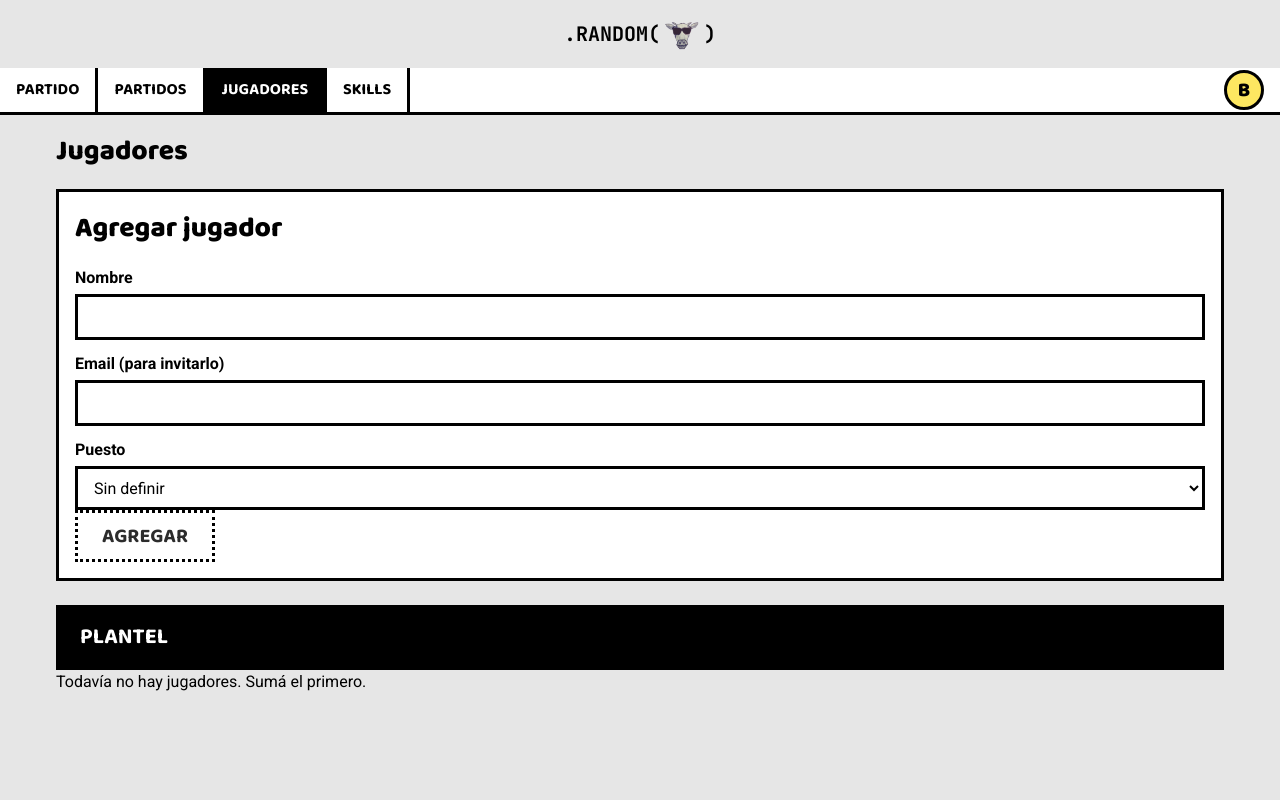
Test case: jugadores › admin agrega un jugador y se recarga la lista
Type "Ana" into the field labelled "Nombre".
click(640, 317); type("Ana")  # box 75,294 -> 1205,340
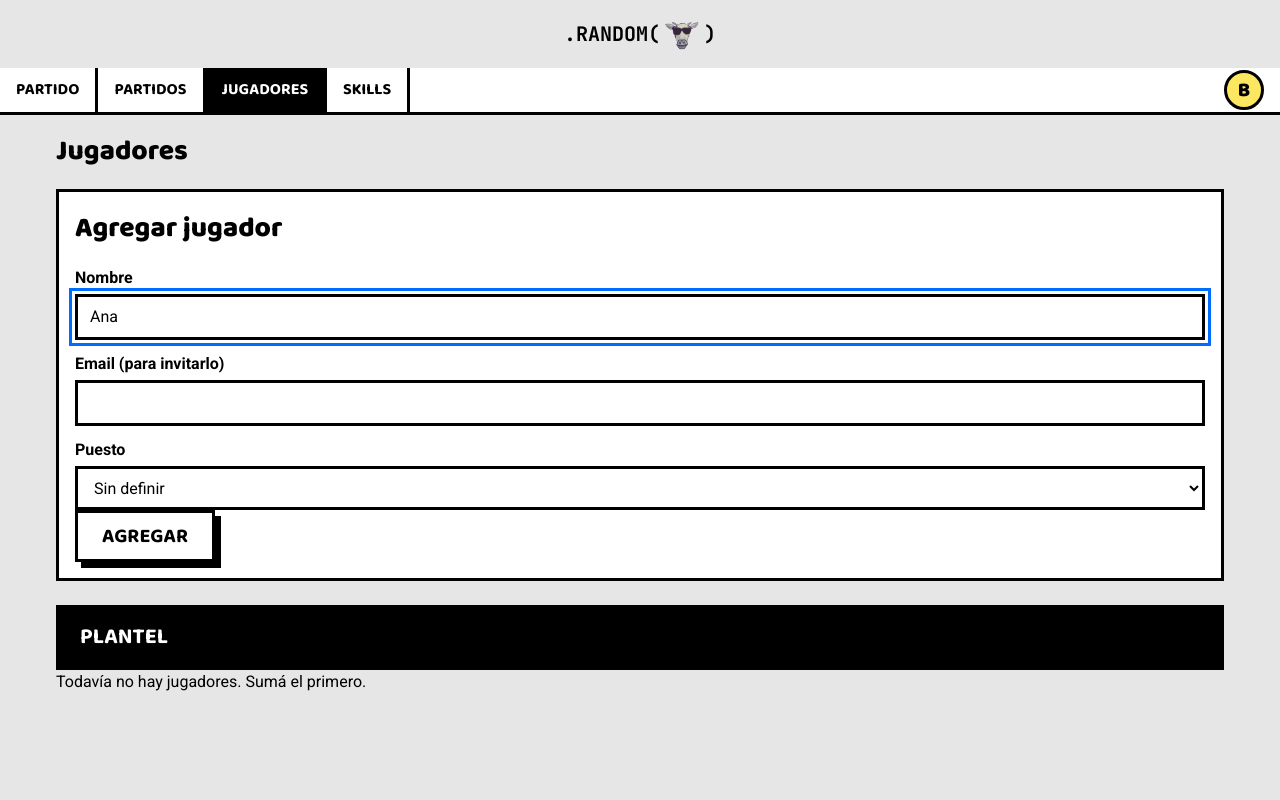
Type "ana@x.com" into the field labelled "Email (para invitarlo)".
click(640, 403); type("ana@x.com")  # box 75,380 -> 1205,426
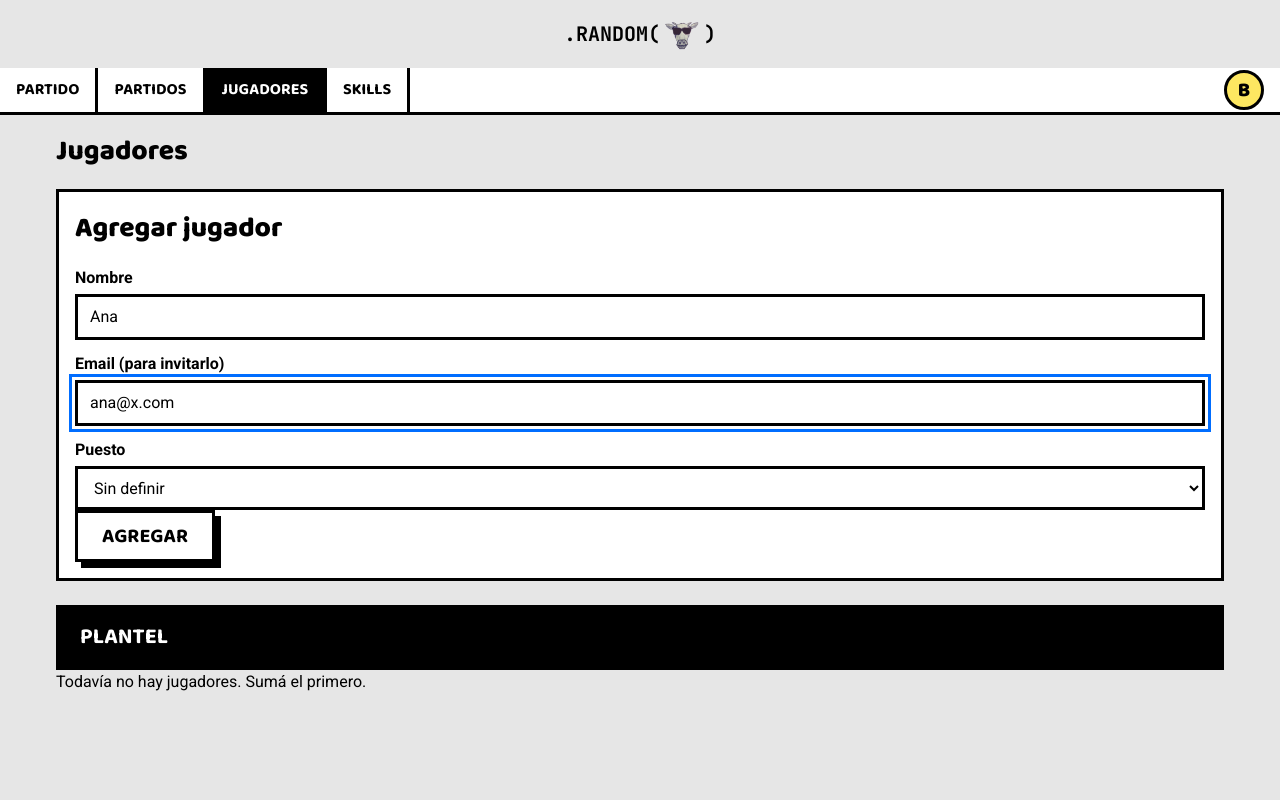
Select "Portero (POR)" in the dropdown labelled "Puesto" at (640, 488), box 75,466 -> 1205,510
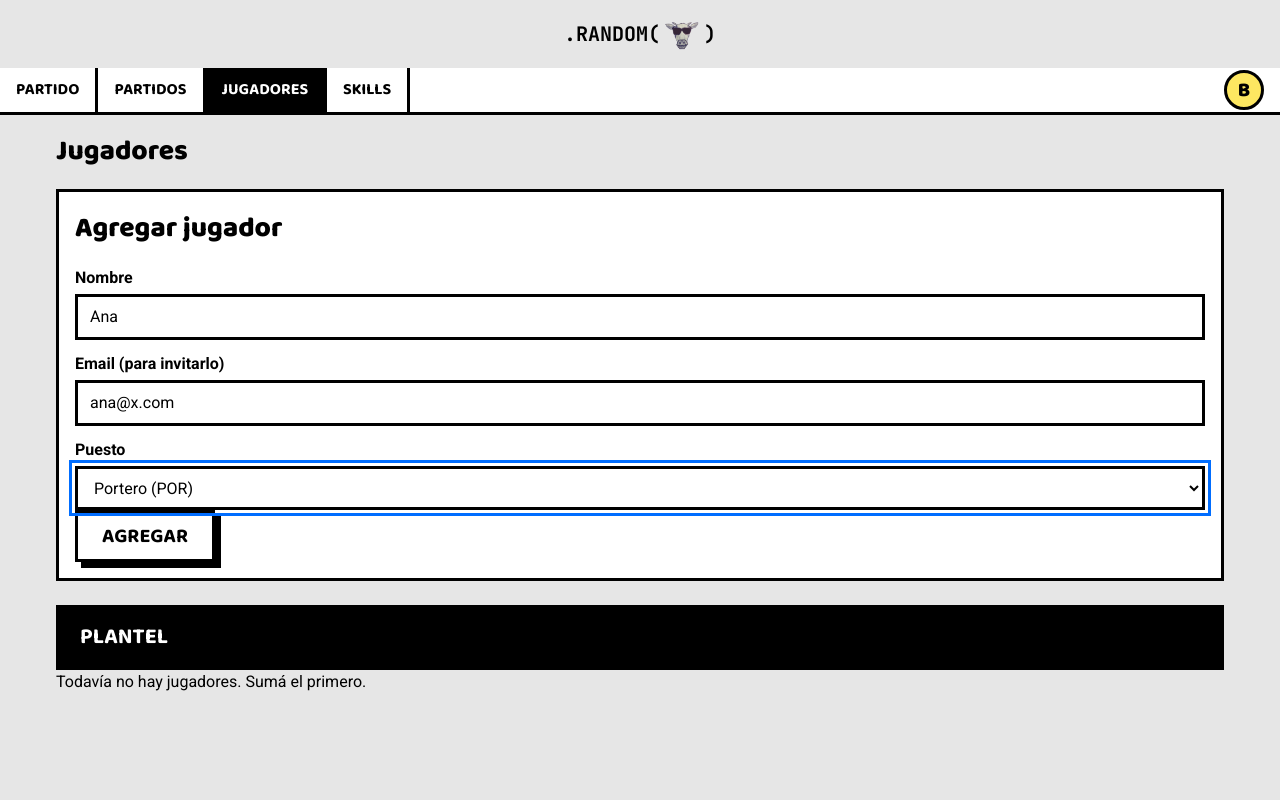
Click the button "Agregar".
click(145, 536)  # box 75,510 -> 215,562
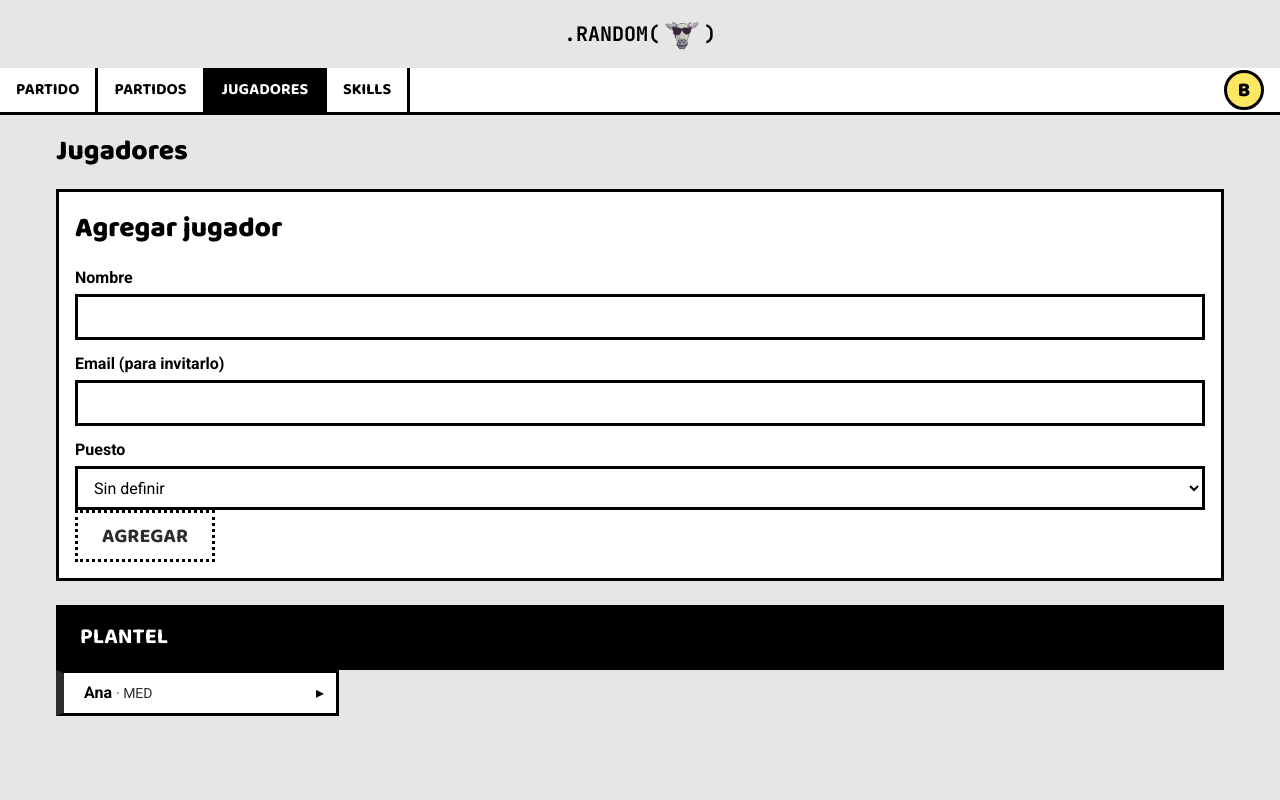
Now the text "Ana" is shown, box 84,683 -> 112,702
